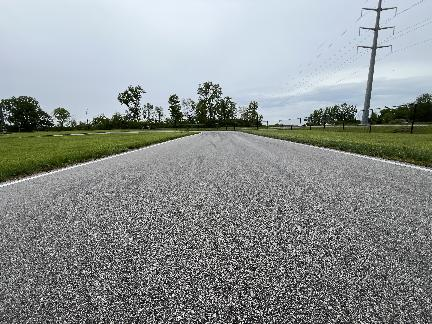Grass: (0, 132, 197, 180), (242, 130, 431, 166), (5, 129, 165, 137)
Lane: (0, 132, 431, 323)
